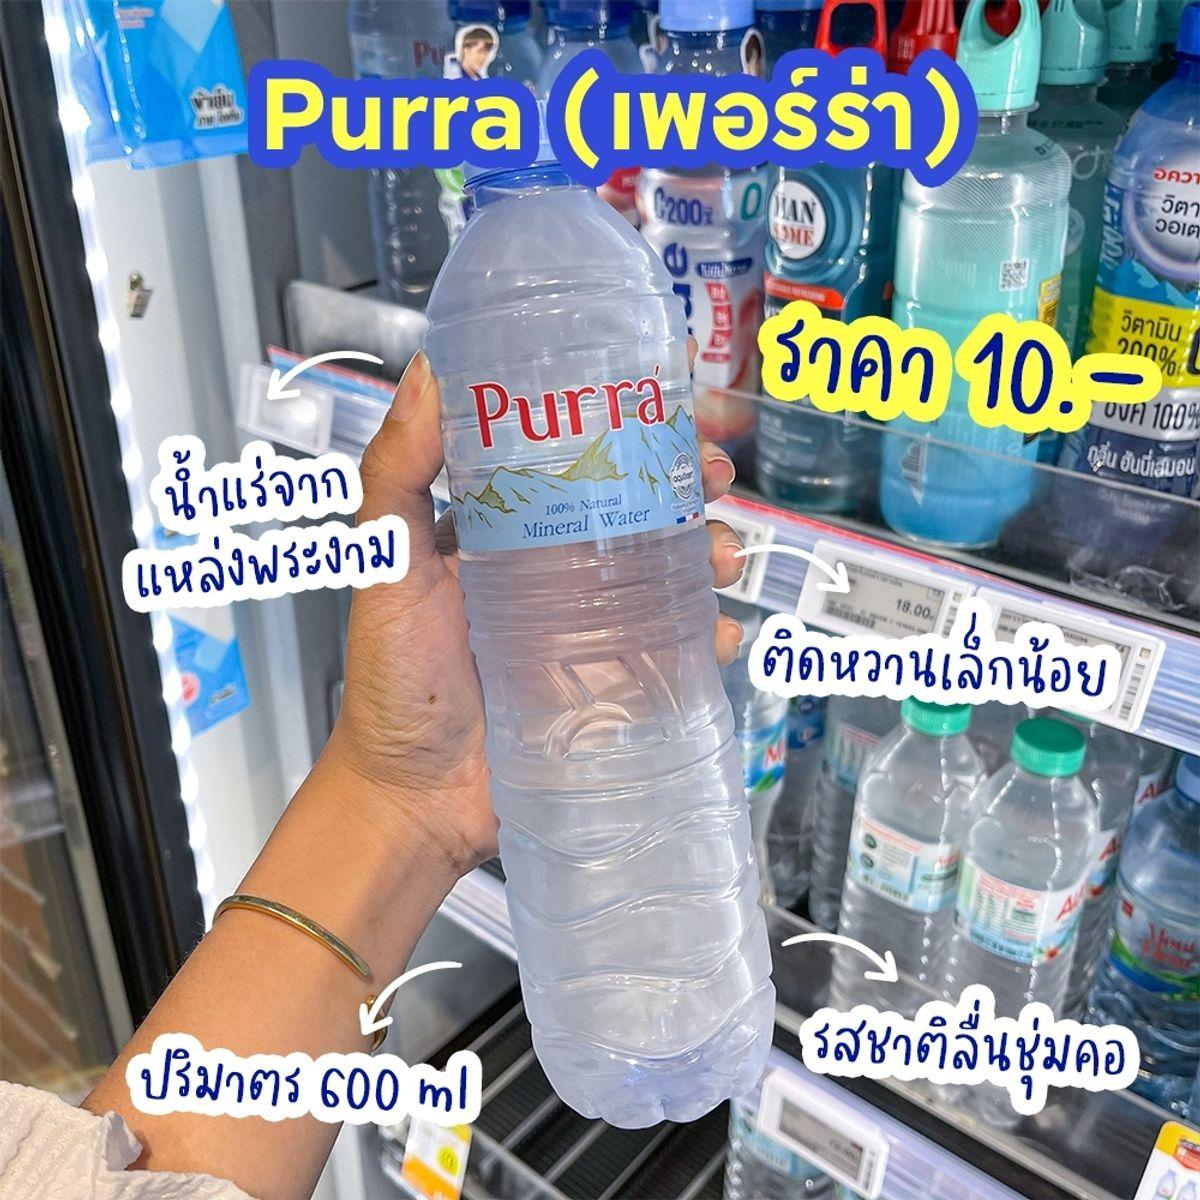bottle: (405, 86, 791, 1138)
